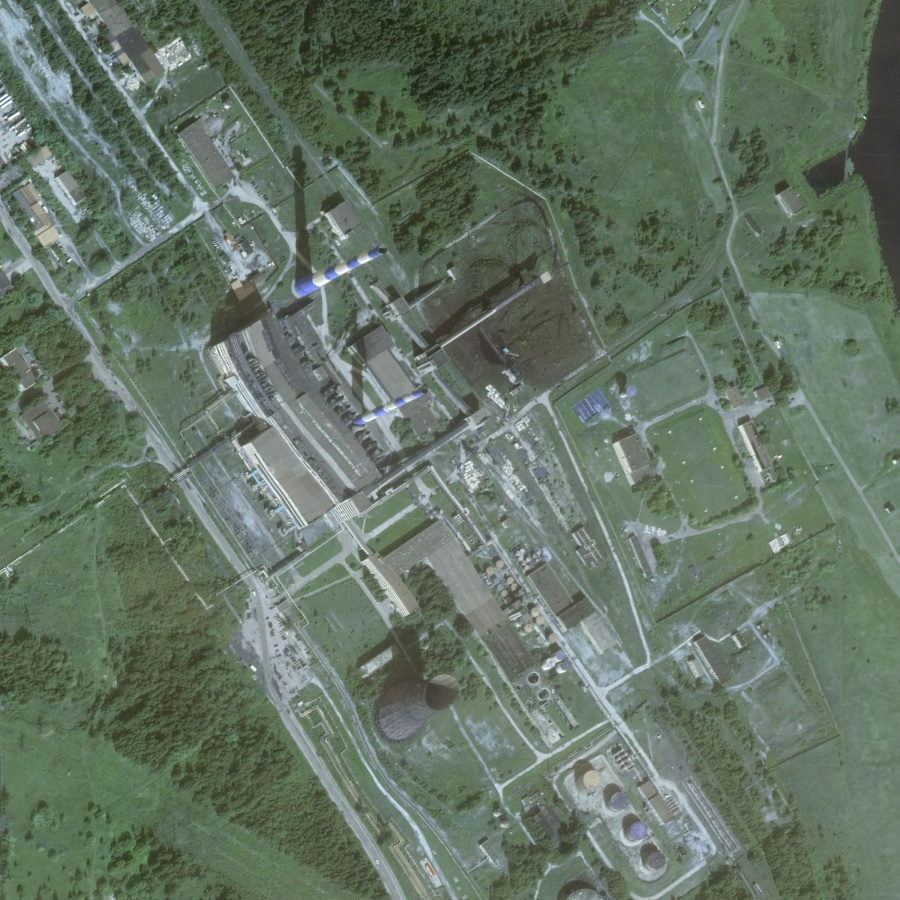PowerPlant: (261, 172, 567, 555), (350, 623, 479, 753), (564, 754, 667, 873)
